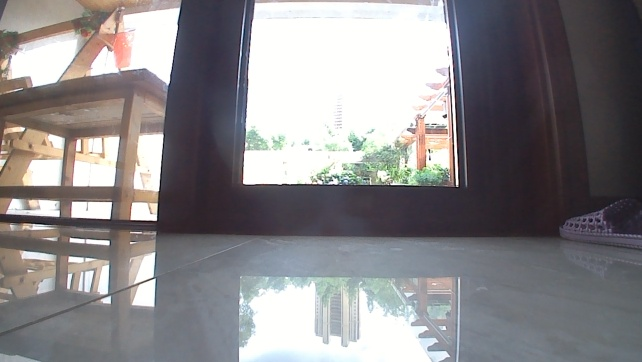slipper: (554, 195, 641, 251)
